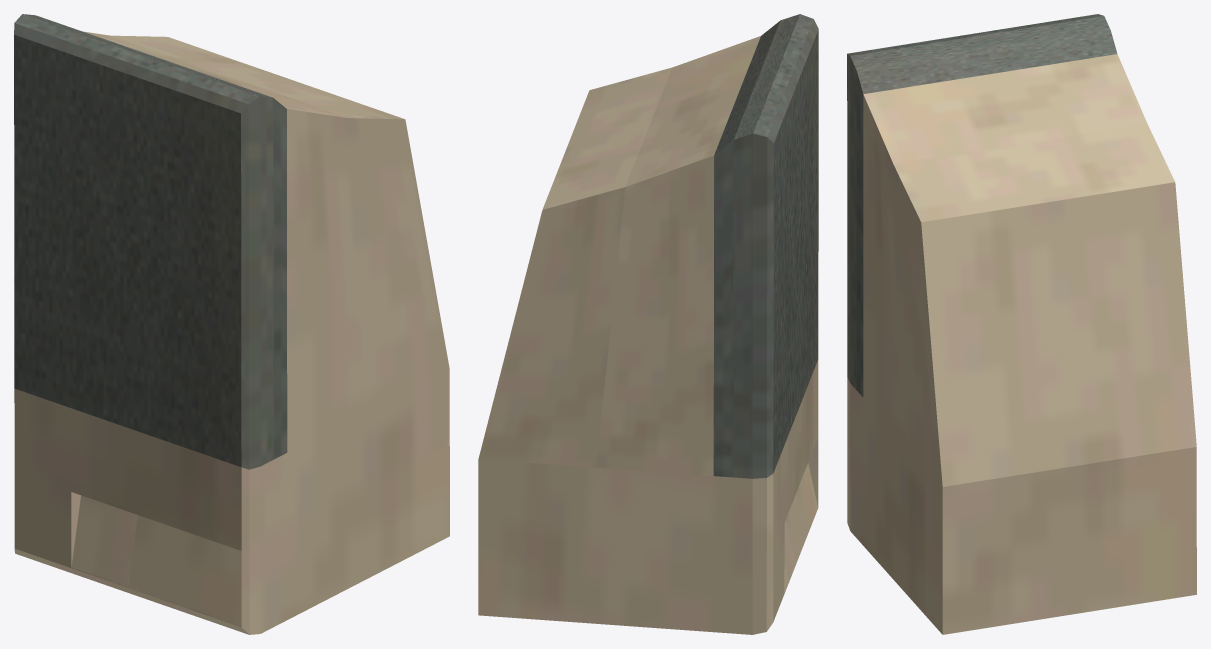
Rendered from object_16_lev1.glb.
3 renders of one model, left to right at view 1: azimuth 30°, elevation 25°; view 2: azimuth 150°, elevation 25°; view 3: azimuth 270°, elevation 25°, orthographic. The views are drawn at different scales.
Visible parts, largest first — view 1: object_16_lev1; view 2: object_16_lev1; view 3: object_16_lev1.
Boxes of the visible parts, x1,y1,x2,y2 form: object_16_lev1: (14,14,449,634); object_16_lev1: (478,14,818,634); object_16_lev1: (847,14,1196,634).
Bounding box in the file's own units: 0.3577 × 0.5234 × 0.3494.
Materials: 1 (1 with a texture image).
